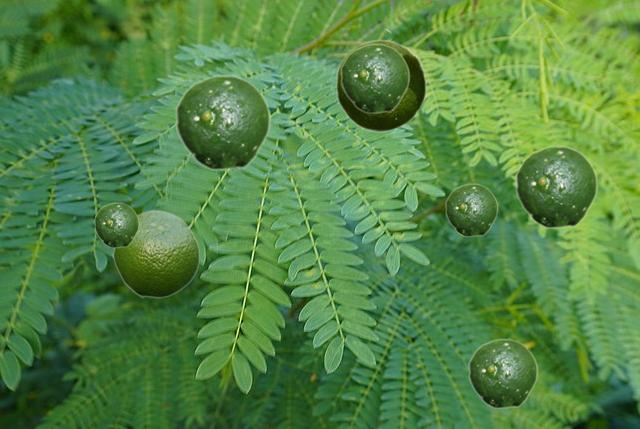calamansi: (175, 74, 270, 170), (335, 39, 426, 131), (112, 209, 199, 297), (515, 145, 597, 228), (468, 338, 537, 408), (340, 43, 409, 113), (445, 183, 497, 236), (94, 202, 138, 247)
